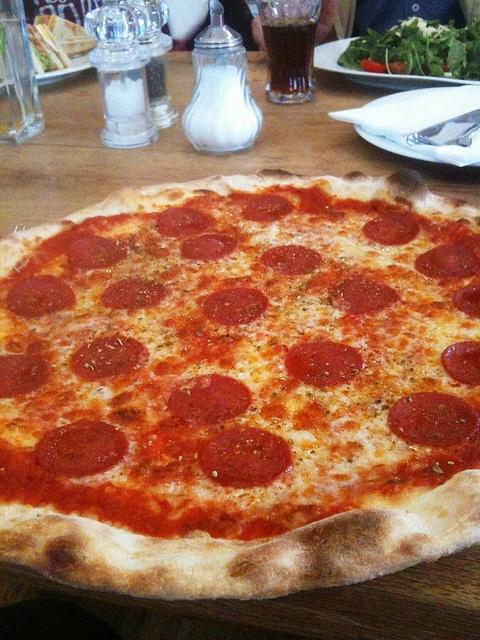tomato: (266, 185, 400, 217), (172, 506, 230, 540), (304, 262, 359, 296), (54, 484, 104, 515), (163, 306, 209, 339), (162, 436, 210, 463), (294, 402, 329, 434), (147, 356, 188, 376), (183, 196, 220, 212), (259, 404, 285, 420), (362, 59, 386, 73), (198, 274, 216, 291), (388, 60, 408, 74), (228, 224, 240, 235), (160, 270, 172, 280), (442, 61, 450, 72)
